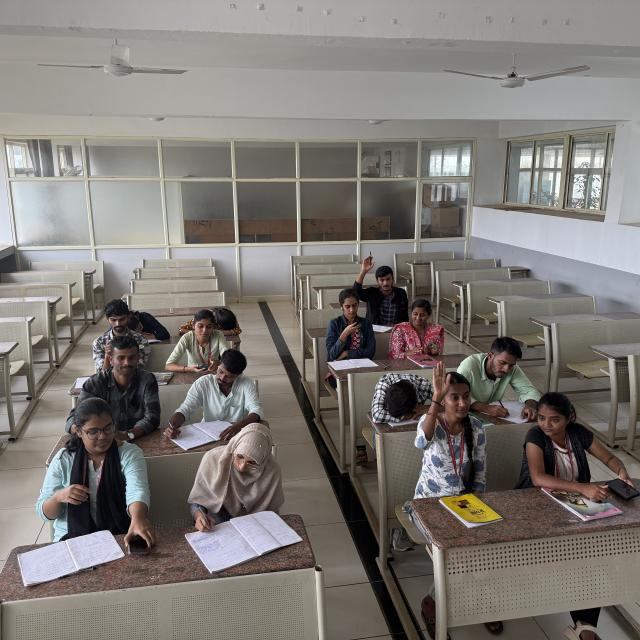Hand Rising: (421, 361, 490, 478), (355, 256, 408, 323)
Sleeping: (368, 368, 436, 427), (177, 303, 247, 343), (122, 306, 172, 346)
Using Phone: (162, 306, 226, 372), (326, 289, 378, 355), (397, 302, 450, 361)
Writing: (185, 428, 294, 556), (166, 350, 262, 444), (460, 332, 540, 420)
